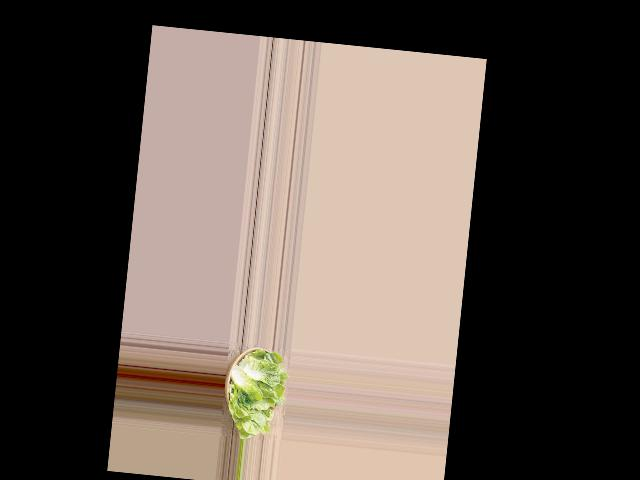lettuce: (220, 341, 288, 441)
